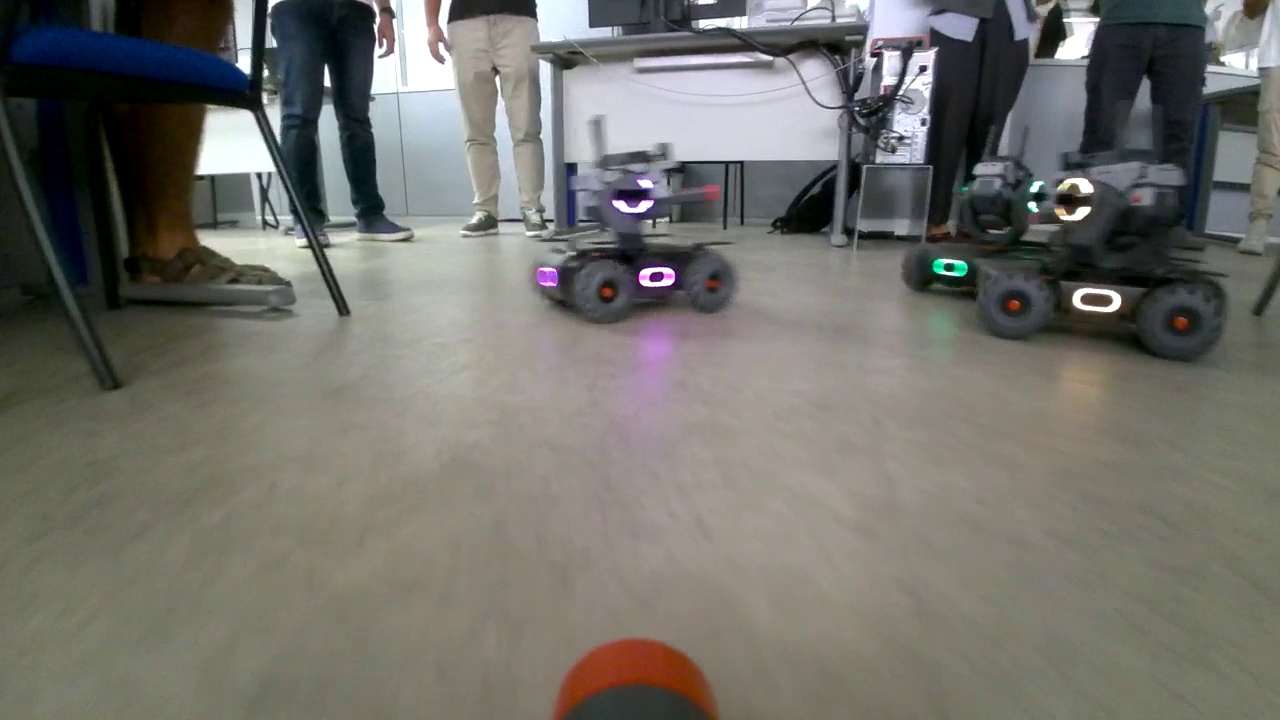robot: (978, 110, 1229, 361), (538, 119, 739, 322), (902, 123, 1058, 299)
